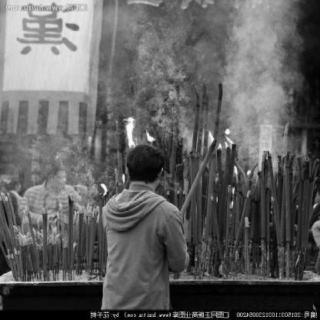Fire: (122, 108, 138, 154), (206, 129, 234, 149), (142, 123, 160, 147), (232, 161, 255, 177), (227, 183, 237, 209), (99, 178, 109, 198)
Smoke: (223, 11, 295, 140)
